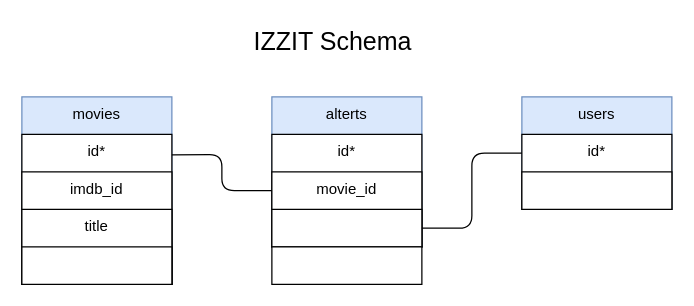
Some shapes in this 694 by 306 pixel diagram are drawn without their labels. Each missing label, with the centre of its shape:
email: point (596, 190)
timestamps: point (346, 265)
user_id: point (346, 227)
year: point (96, 265)
